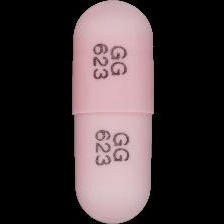0904-6128: (0, 0, 224, 224)
